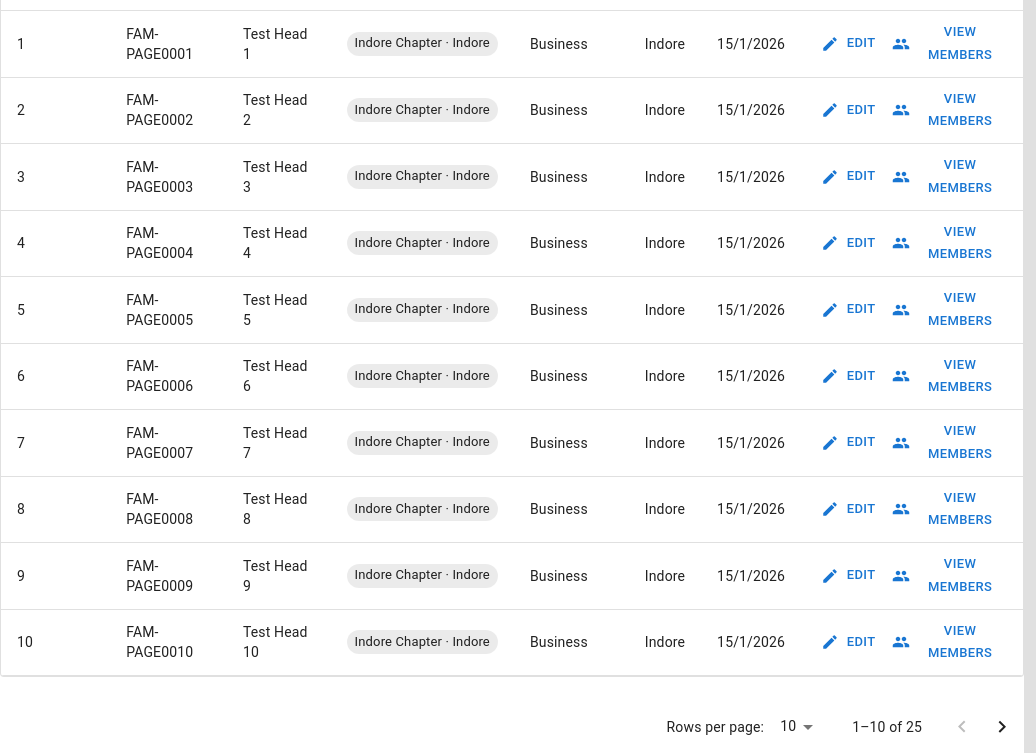
Test: FamiliesListPage › pagination › advances to the next page and shows the correct sequence numbers
(page scrolled)
Click the button named "next page".
click(1002, 727)  # box [982,707,1022,747]
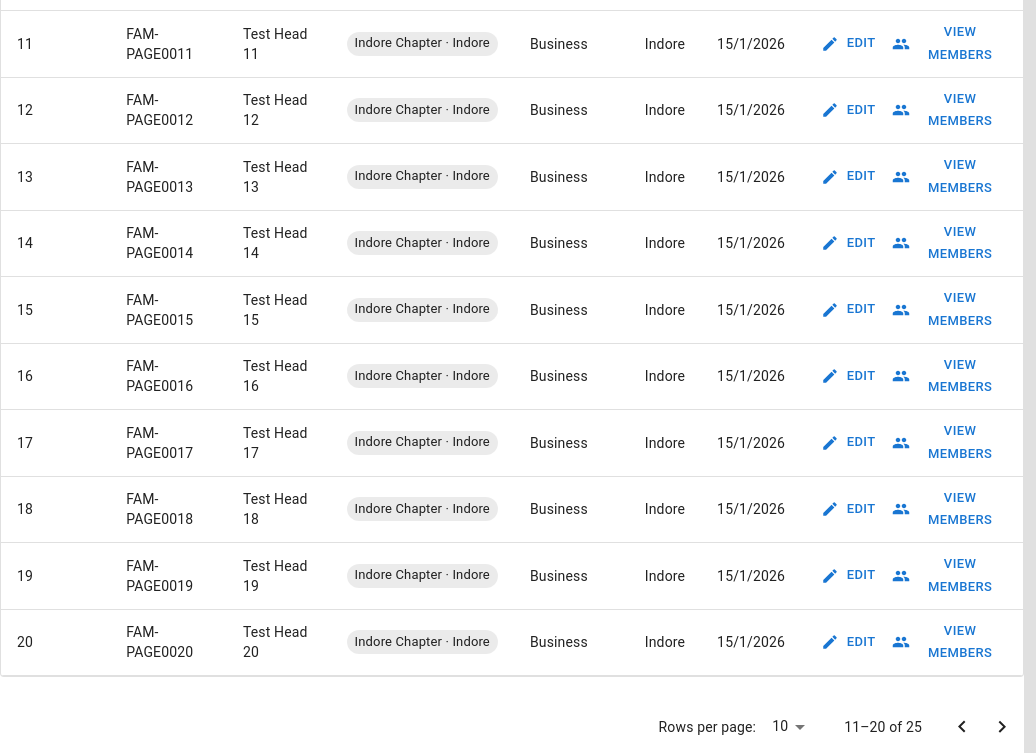
Check: the text "11" is shown, box [1,10,110,77]
